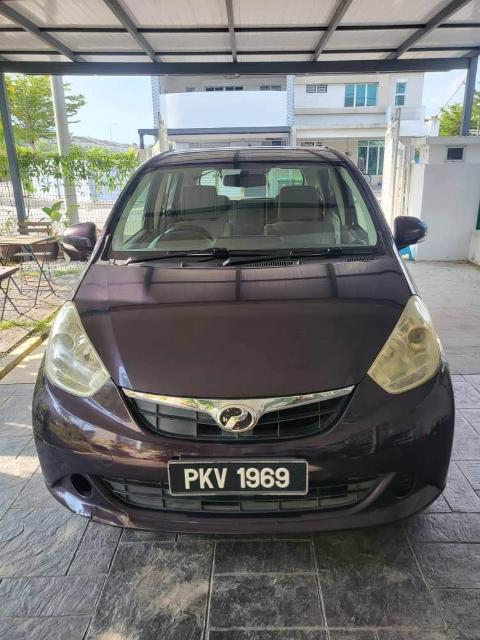License_Plate: (169, 462, 309, 498)
car: (33, 147, 457, 524)
